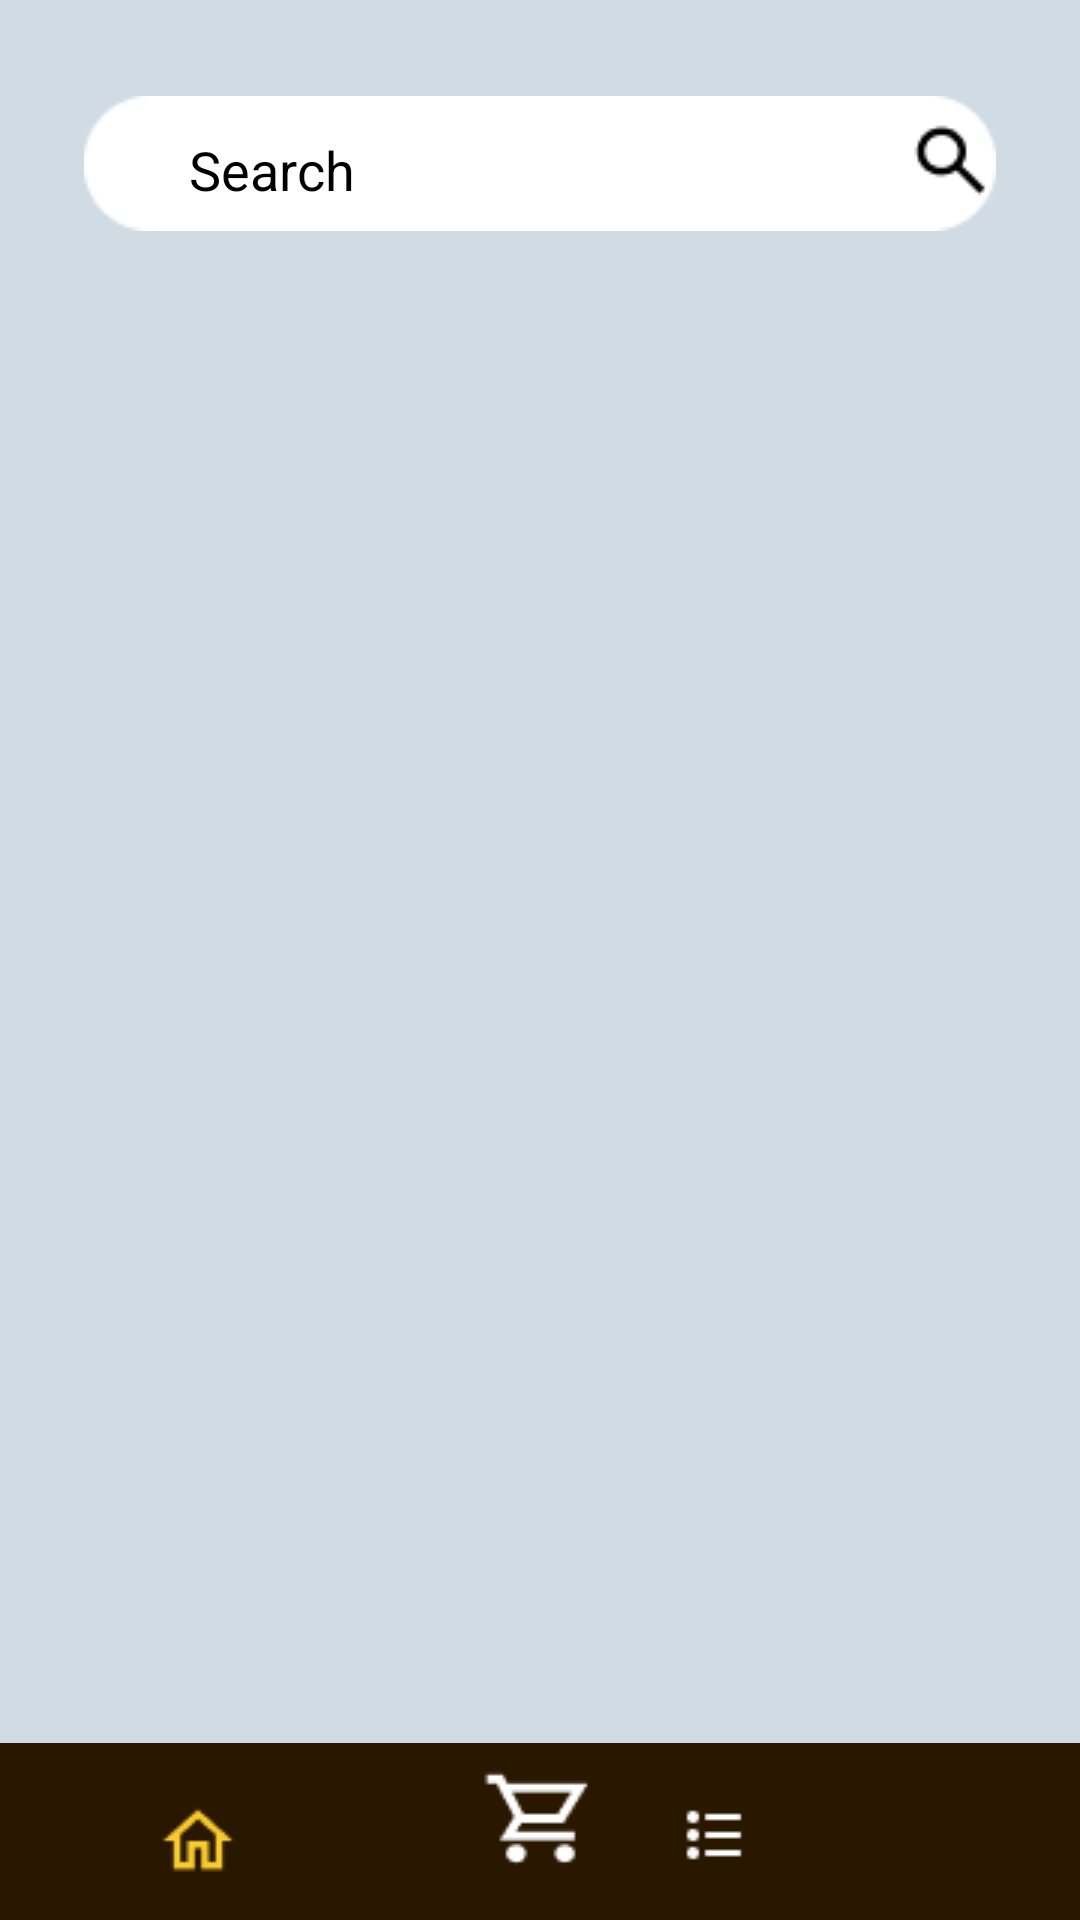

Icons on this 1080*1920 Android screen, each with its box as box(x1, y1, x2, y2):
home: box(162, 1809, 233, 1872)
symbols shopping cart sharp: box(484, 1773, 588, 1864)
